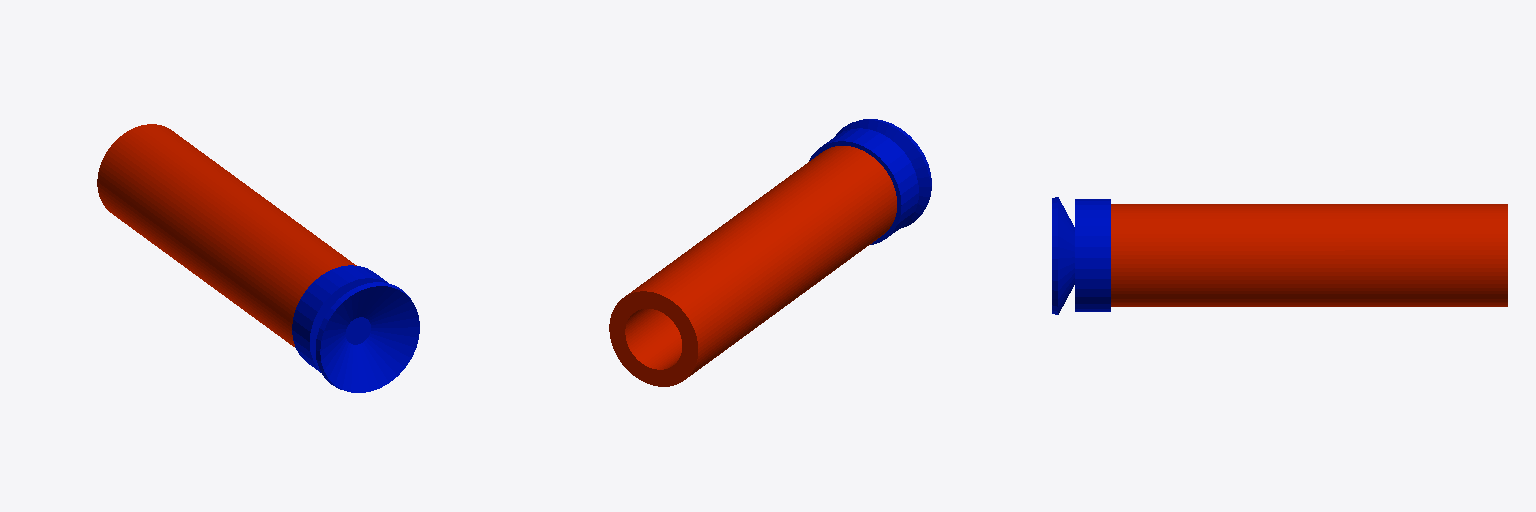
File: nerf.obj
3 renders of one model, left to right at view 1: azimuth 30°, elevation 25°; view 2: azimuth 150°, elevation 25°; view 3: azimuth 270°, elevation 25°, orthographic.
Parts seen in each view (by area): view 1: Cylinder_Cylinder.002, Cone, Cylinder.001; view 2: Cylinder_Cylinder.002, Cylinder.001, Cone; view 3: Cylinder_Cylinder.002, Cylinder.001, Cone.
Boxes of the visible parts, x1=… form: Cylinder_Cylinder.002: x1=97, y1=124, x2=356, y2=346; Cone: x1=316, y1=282, x2=419, y2=392; Cylinder.001: x1=292, y1=265, x2=387, y2=372; Cylinder_Cylinder.002: x1=609, y1=146, x2=896, y2=386; Cylinder.001: x1=809, y1=128, x2=918, y2=244; Cone: x1=836, y1=119, x2=931, y2=228; Cylinder_Cylinder.002: x1=1111, y1=204, x2=1507, y2=306; Cylinder.001: x1=1075, y1=199, x2=1110, y2=311; Cone: x1=1052, y1=197, x2=1074, y2=314.
Bounding box in the file's own units: 1.52 × 1.52 × 5.84.